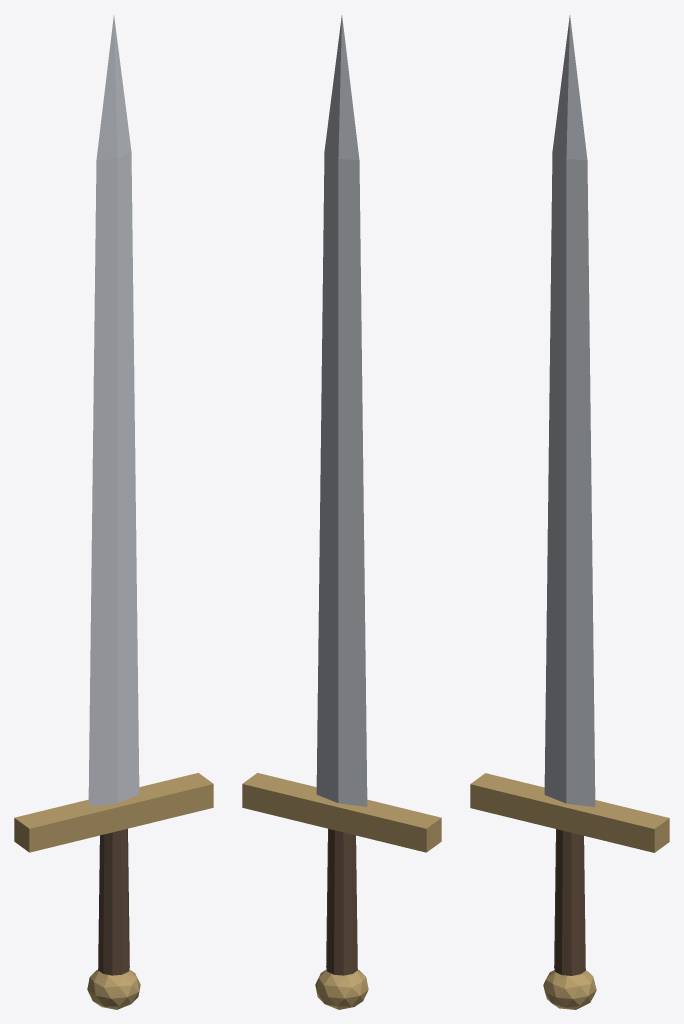
The model's file is sword_1h.glb.
The picture shows the model from 3 angles, left to right: view 1: azimuth 30°, elevation 25°; view 2: azimuth 150°, elevation 25°; view 3: azimuth 330°, elevation 25°; orthographic projection.
Parts seen in each view (by area): view 1: sword_1h; view 2: sword_1h; view 3: sword_1h.
Part boxes in pixels (box(x1,y1,x2,y2)): sword_1h: box(14, 15, 213, 1009); sword_1h: box(242, 15, 441, 1009); sword_1h: box(470, 15, 669, 1009).
Size of the model in its own units: 0.21 by 1.08 by 0.054.
